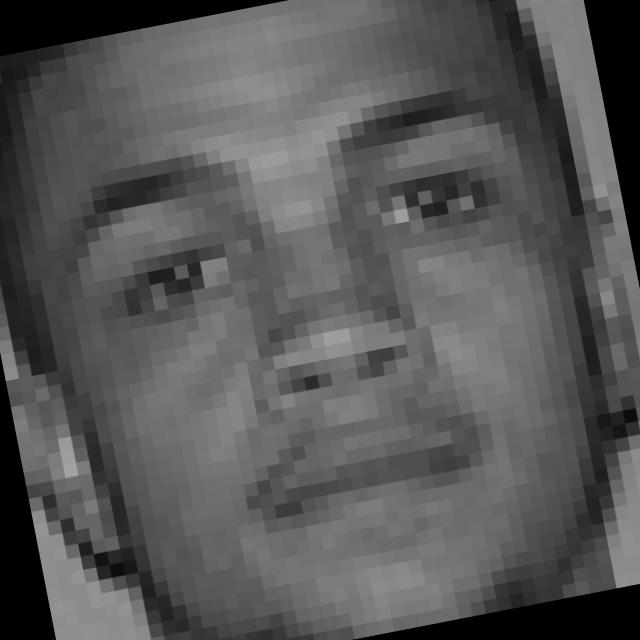neutral: (44, 61, 614, 590)
